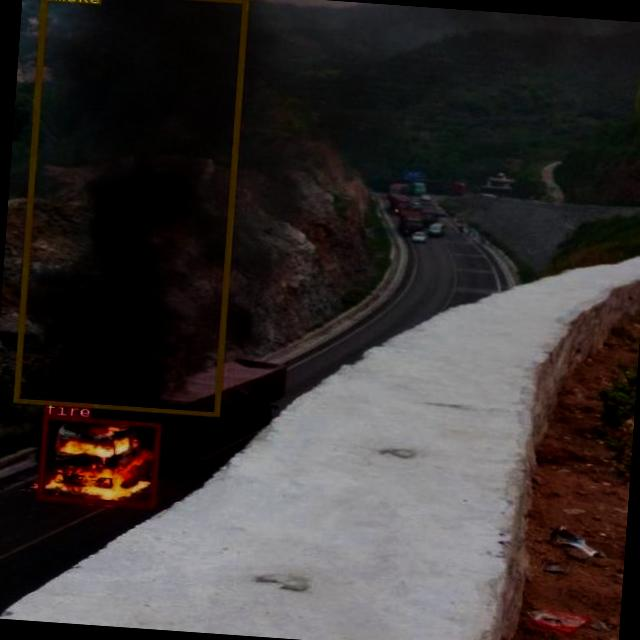fire: (35, 414, 160, 506)
smoke: (11, 0, 246, 416)
